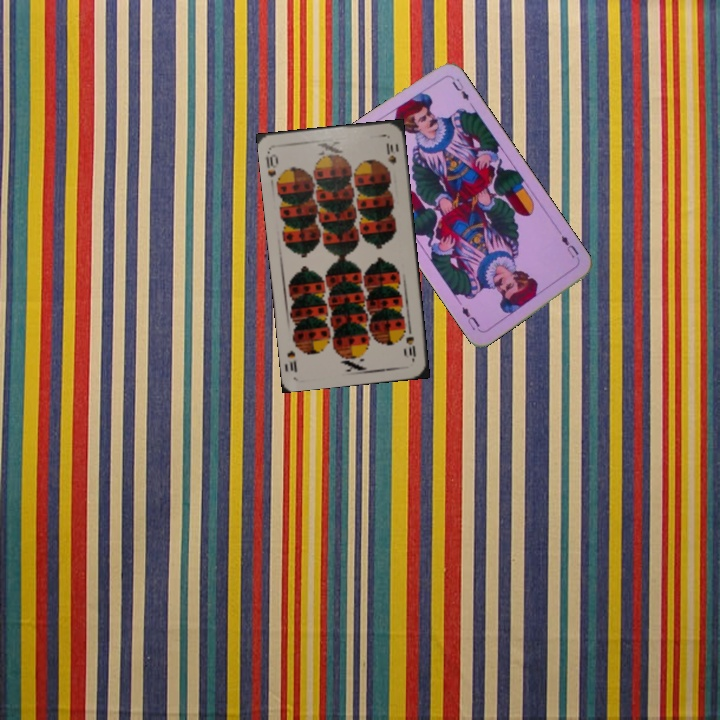EU: (555, 228, 582, 261)
S10: (402, 322, 418, 363), (262, 150, 281, 179)
